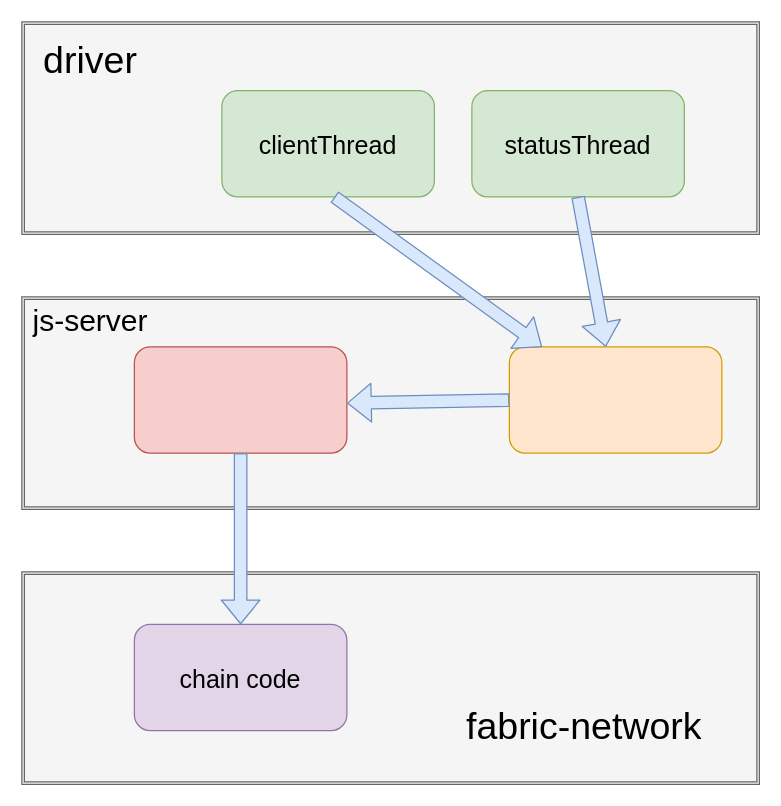
Some shapes in this 781 by 806 pixel diagram are drawn without their labels. Each missing label, with the box of its shape:
express: (508, 346, 722, 453)
fabric-SDK: (133, 346, 347, 453)
